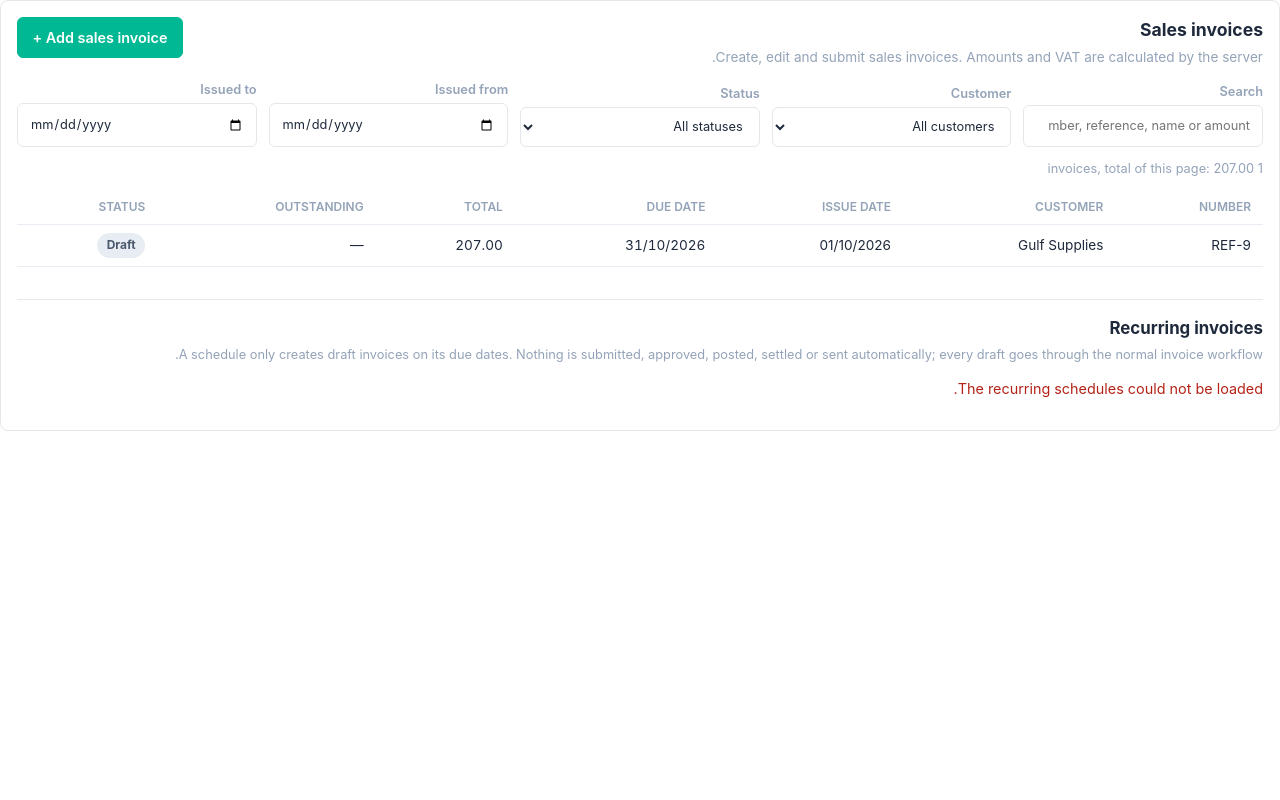
Test: Invoice details dialog layout › shows the summary header and the three sections for a draft invoice
Click the text "REF-9" at x=1189, y=245, box top-left (1115, 225), bottom-right (1263, 266)
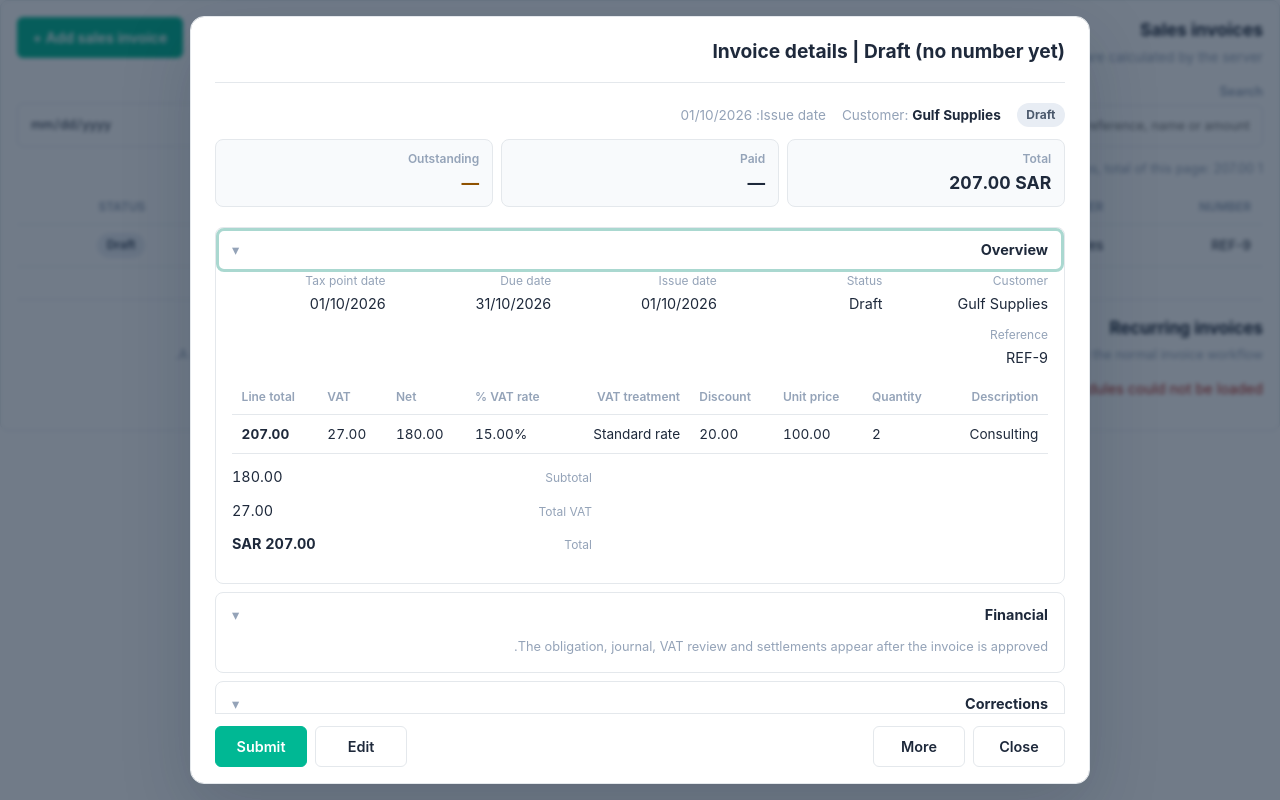
Check: the element named "Invoice summary" shows "Draft", box top-left (1026, 107), bottom-right (1055, 122)
Check: the element named "Invoice summary" shows "Gulf Supplies", box top-left (912, 107), bottom-right (1001, 123)
Check: the element named "Invoice summary" shows "01/10/2026", box top-left (680, 107), bottom-right (752, 123)
